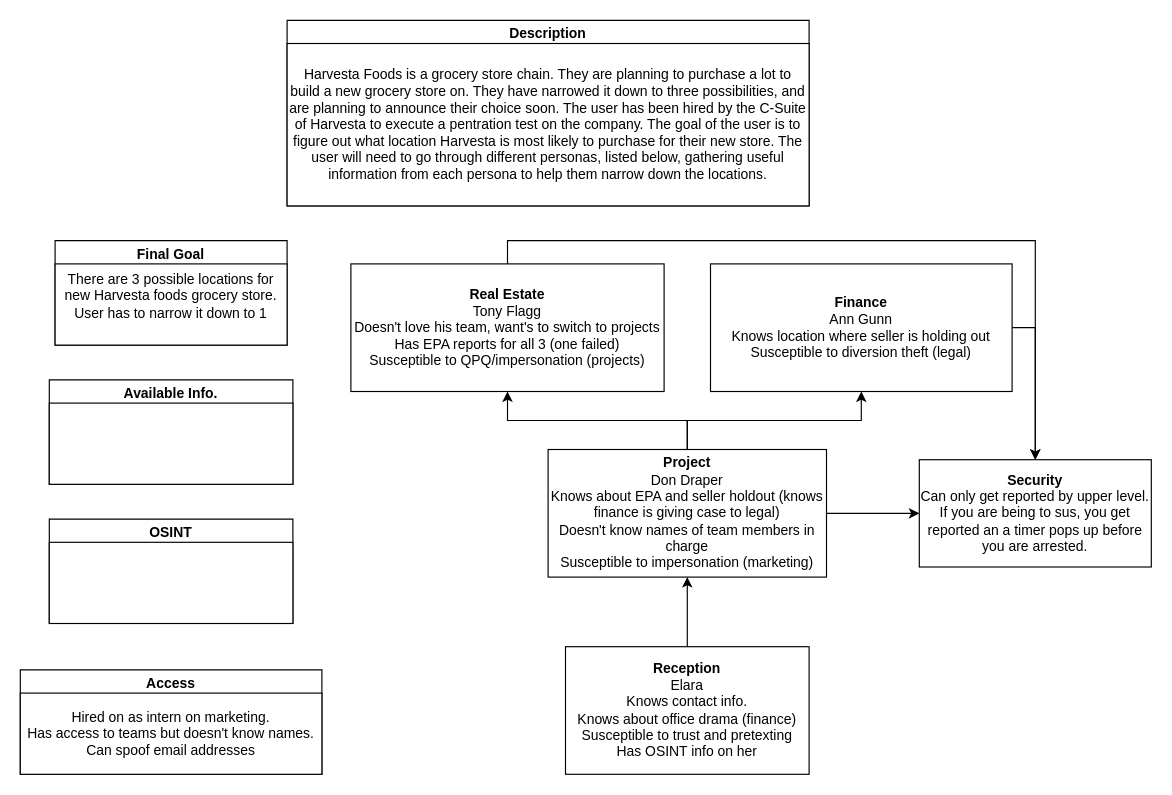
Some shapes in this 1172 by 795 pixel diagram are drawn without their labels. Here are the shapes that lost their labels. From the top down, the centre of each, then its label:
At (x=170, y=443): "EPA report that removes one location. Seller holdout that removes another.".
At (x=170, y=582): "Announcement date Team members Info. on Elara".
